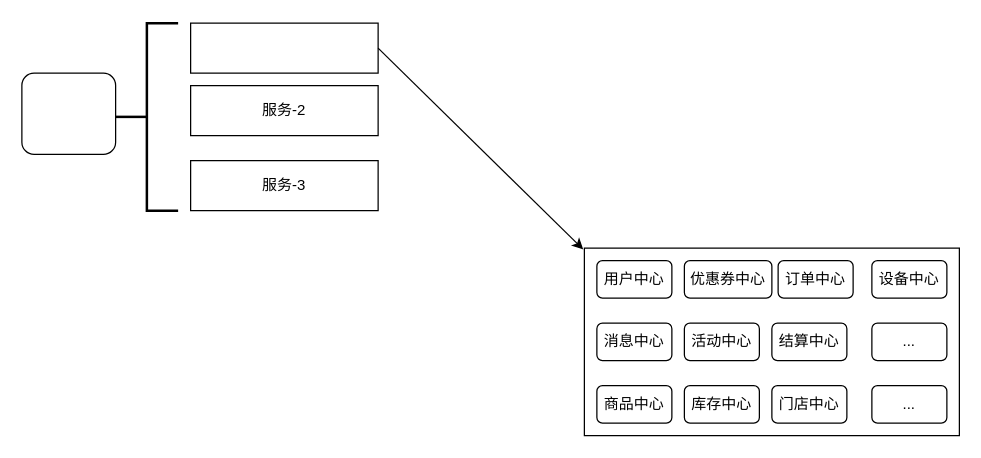
This 981x458 diagram has some shape labels left out. The box of each missing label's shape, as (x1, y1, x2, y2) in pixels:
Nginx网关: (21, 72, 116, 154)
服务-1: (189, 22, 378, 73)
